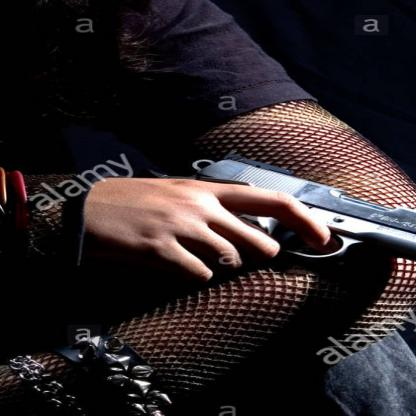gun: (171, 152, 415, 306)
